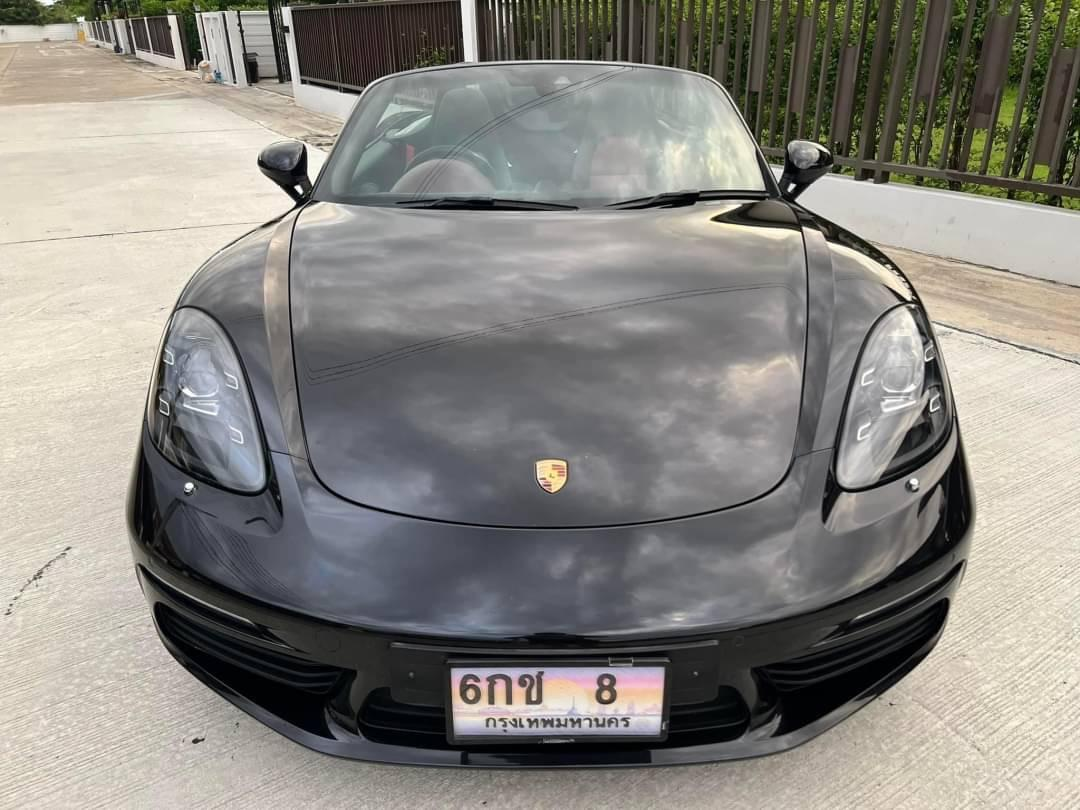license-plate: (426, 640, 687, 758)
